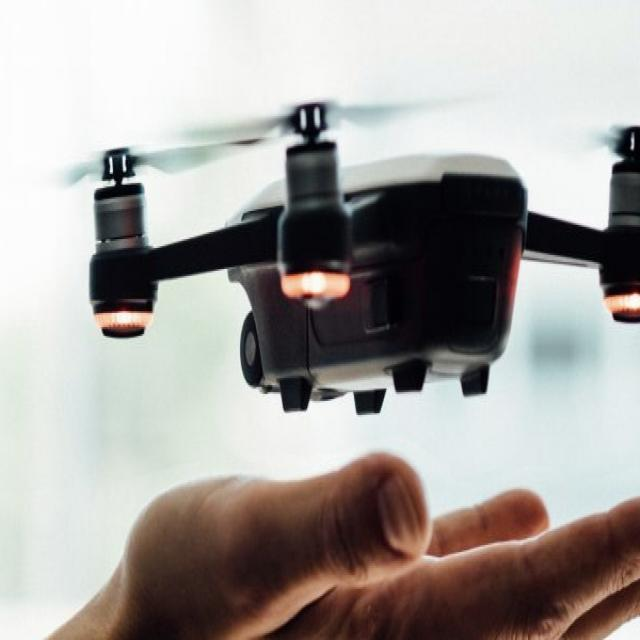drone: (46, 83, 640, 452)
